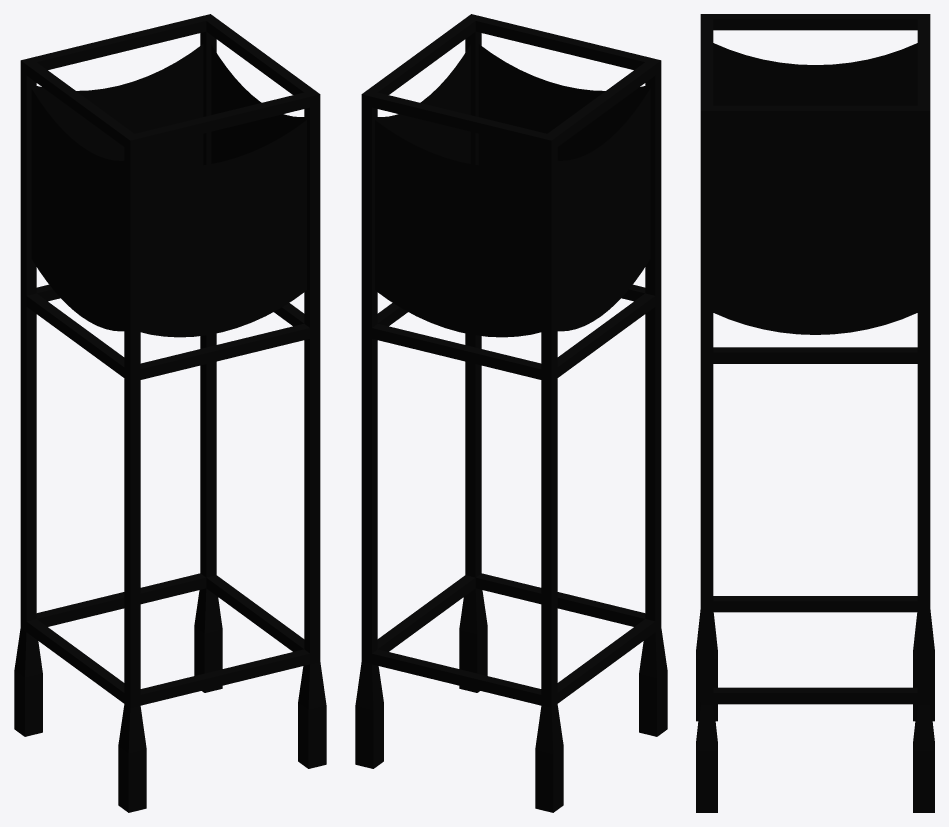
The model's file is bannerTowerGreen.glb.
3 renders of one model, left to right at view 1: azimuth 30°, elevation 25°; view 2: azimuth 150°, elevation 25°; view 3: azimuth 270°, elevation 25°, orthographic. The views are drawn at different scales.
Parts seen in each view (by area): view 1: Mesh bannerTowerGreen; view 2: Mesh bannerTowerGreen; view 3: Mesh bannerTowerGreen.
Part boxes in pixels (bbox=[...]): Mesh bannerTowerGreen: bbox=[14, 14, 326, 812]; Mesh bannerTowerGreen: bbox=[355, 14, 667, 812]; Mesh bannerTowerGreen: bbox=[696, 14, 934, 812].
Bounding box in the file's own units: 0.3852 × 1.25 × 0.3852.
Materials: 1 (1 with a texture image).
